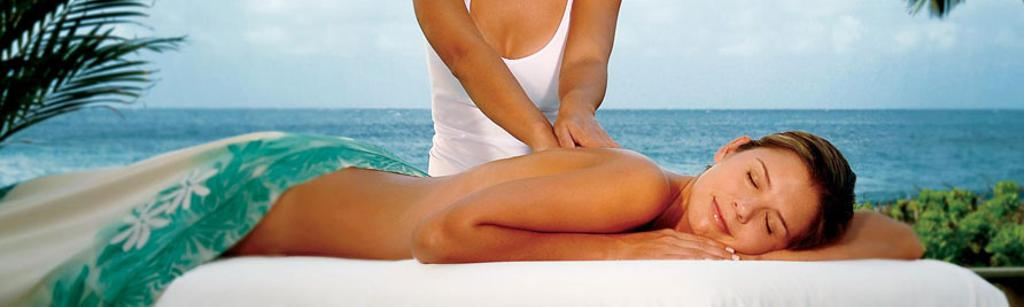face: (692, 158, 812, 250)
